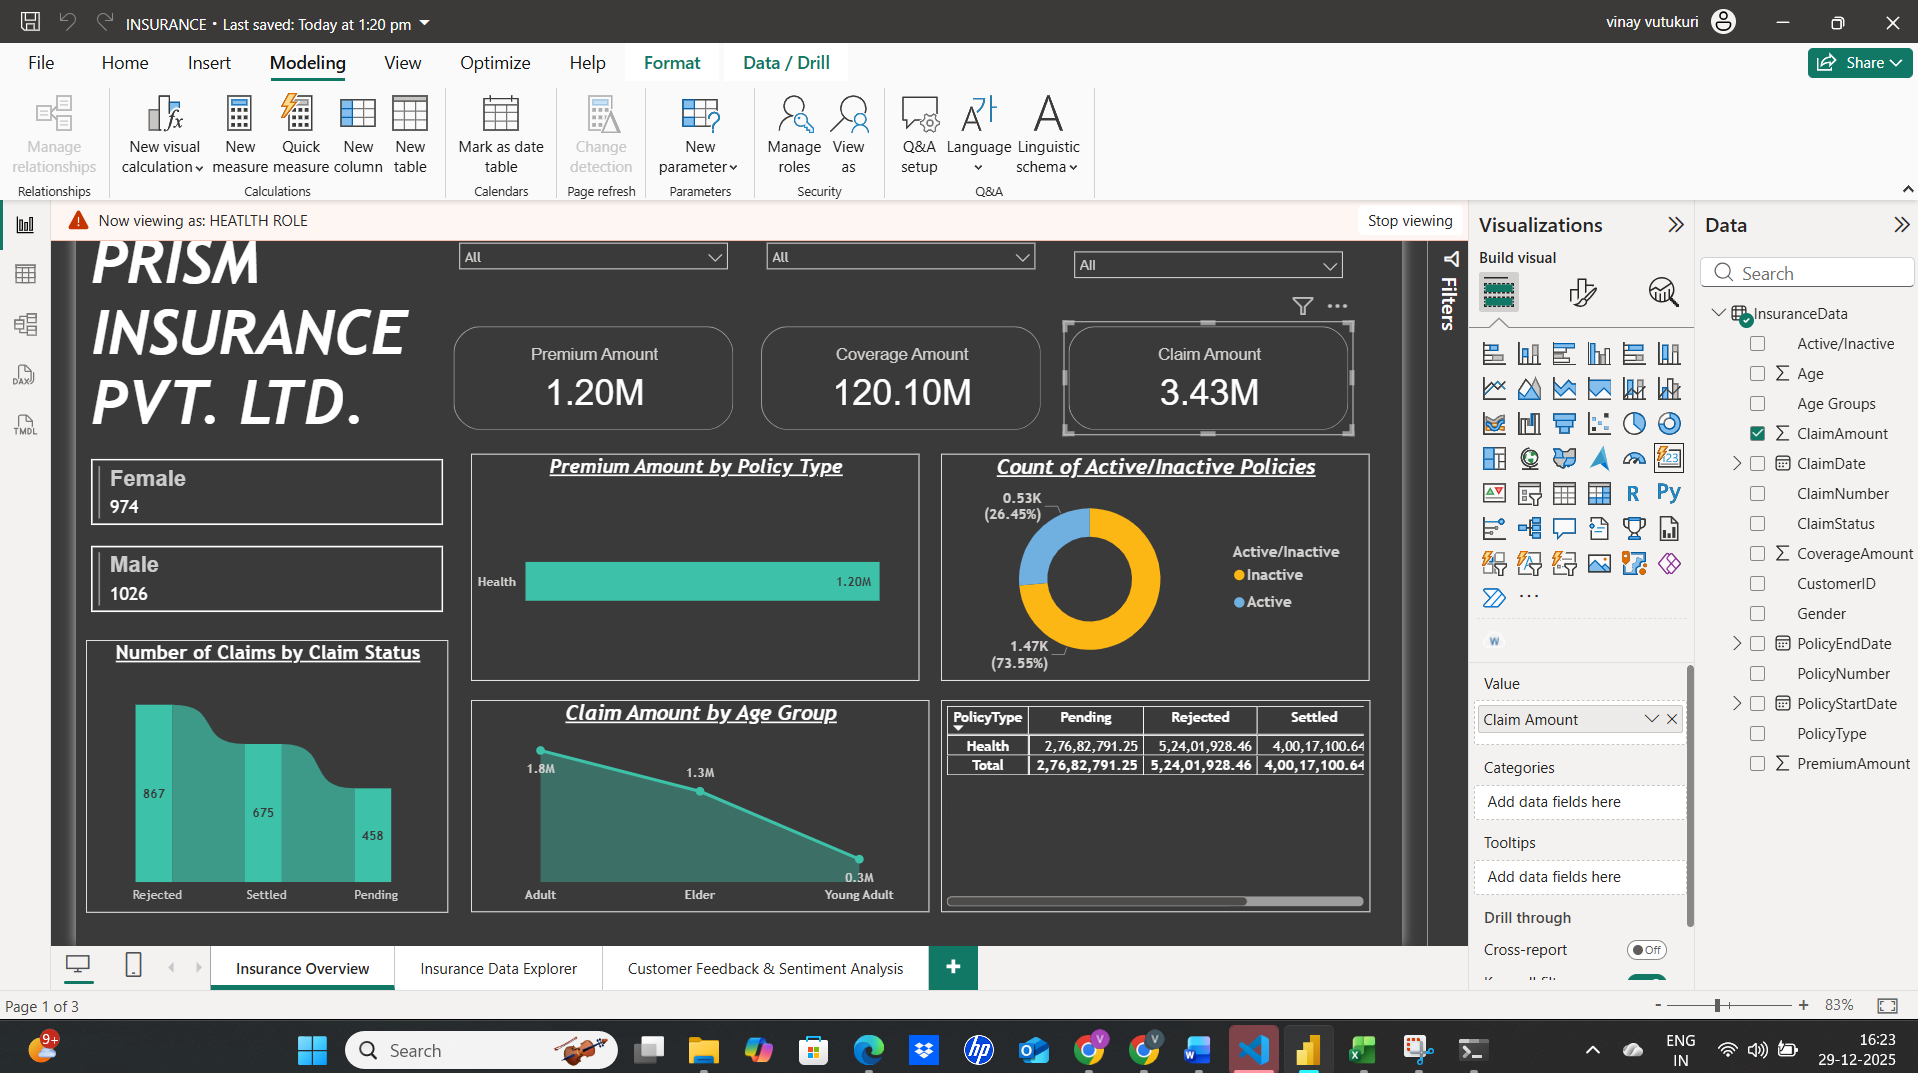

The page's visual inventory and layout, read from the dashboard file:
{"tool":"powerbi","page":{"name":"Insurance Overview ","canvas":[1280,720],"ordinal":0},"visuals":[{"type":"slicer","fields":{"Values":["InsuranceData.PolicyNumber"]},"box":[359.5,10.9,279.9,83.2],"z":0},{"type":"slicer","fields":{"Values":["InsuranceData.CustomerID"]},"box":[953.1,19.3,281.1,74.8],"z":1000},{"type":"textbox","box":[10,20,321.7,316.7],"z":2000},{"type":"cardVisual","fields":{"Data":["Sum(InsuranceData.PremiumAmount)"]},"box":[360,116.7,280,110],"z":3000},{"type":"cardVisual","fields":{"Data":["Sum(InsuranceData.CoverageAmount)"]},"box":[656.7,116.7,280,110],"z":4000},{"type":"cardVisual","fields":{"Data":["Sum(InsuranceData.ClaimAmount)"]},"box":[953.3,116.7,280,110],"z":5000},{"type":"multiRowCard","fields":{"Values":["InsuranceData.Gender","CountNonNull(InsuranceData.Gender)"]},"box":[9.7,244.9,349.9,179.8],"z":6000},{"type":"ribbonChart","title":"Number of Claims by Claim Status","fields":{"Category":["InsuranceData.ClaimStatus"],"Y":["CountNonNull(InsuranceData.ClaimStatus)"]},"box":[9.7,424.7,349.9,263],"z":7000},{"type":"barChart","title":"Premium Amount by Policy Type","fields":{"Category":["InsuranceData.PolicyType"],"Y":["Sum(InsuranceData.PremiumAmount)"]},"box":[381.2,244.9,433.1,219.6],"z":8000},{"type":"lineChart","title":"Claim Amount by Age Group","fields":{"Category":["InsuranceData.Age Groups"],"Y":["Sum(InsuranceData.ClaimAmount)"]},"box":[381.2,482.6,442.8,205.1],"z":9000},{"type":"donutChart","title":"Count of Active/Inactive Policies","fields":{"Category":["InsuranceData.Active/Inactive"],"Y":["CountNonNull(InsuranceData.Active/Inactive)"]},"box":[834.9,244.9,413.8,219.6],"z":10000},{"type":"pivotTable","fields":{"Rows":["InsuranceData.PolicyType"],"Columns":["InsuranceData.ClaimStatus"],"Values":["Sum(InsuranceData.CoverageAmount)"]},"box":[835,483,414,205],"z":11000},{"type":"slicer","fields":{"Values":["InsuranceData.ClaimAmount"]},"box":[656.3,10.9,279.9,83.2],"z":13000}]}

Visuals, with their boxes on the page's 1280x720 design canvas (x1, y1, x2, y2). These are canvas units, not pixel positions in the 1918x1073 screenshot, which may show the page scaled, cropped or inside an application window:
slicer - InsuranceData.PolicyNumber: 360, 11, 639, 94
slicer - InsuranceData.CustomerID: 953, 19, 1234, 94
textbox: 10, 20, 332, 337
cardVisual - Sum(InsuranceData.PremiumAmount): 360, 117, 640, 227
cardVisual - Sum(InsuranceData.CoverageAmount): 657, 117, 937, 227
cardVisual - Sum(InsuranceData.ClaimAmount): 953, 117, 1233, 227
multiRowCard - InsuranceData.Gender x CountNonNull(InsuranceData.Gender): 10, 245, 360, 425
"Number of Claims by Claim Status" ribbonChart: 10, 425, 360, 688
"Premium Amount by Policy Type" barChart: 381, 245, 814, 464
"Claim Amount by Age Group" lineChart: 381, 483, 824, 688
"Count of Active/Inactive Policies" donutChart: 835, 245, 1249, 464
pivotTable - InsuranceData.PolicyType x InsuranceData.ClaimStatus: 835, 483, 1249, 688
slicer - InsuranceData.ClaimAmount: 656, 11, 936, 94
